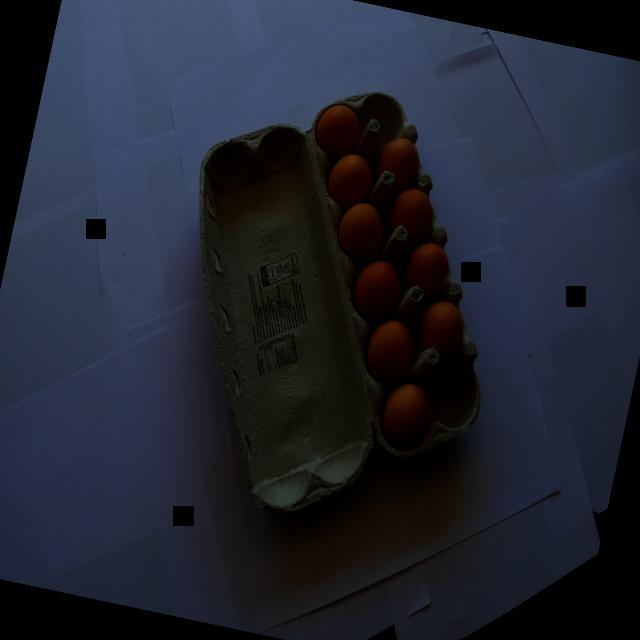Egg: (120, 45, 547, 568)
